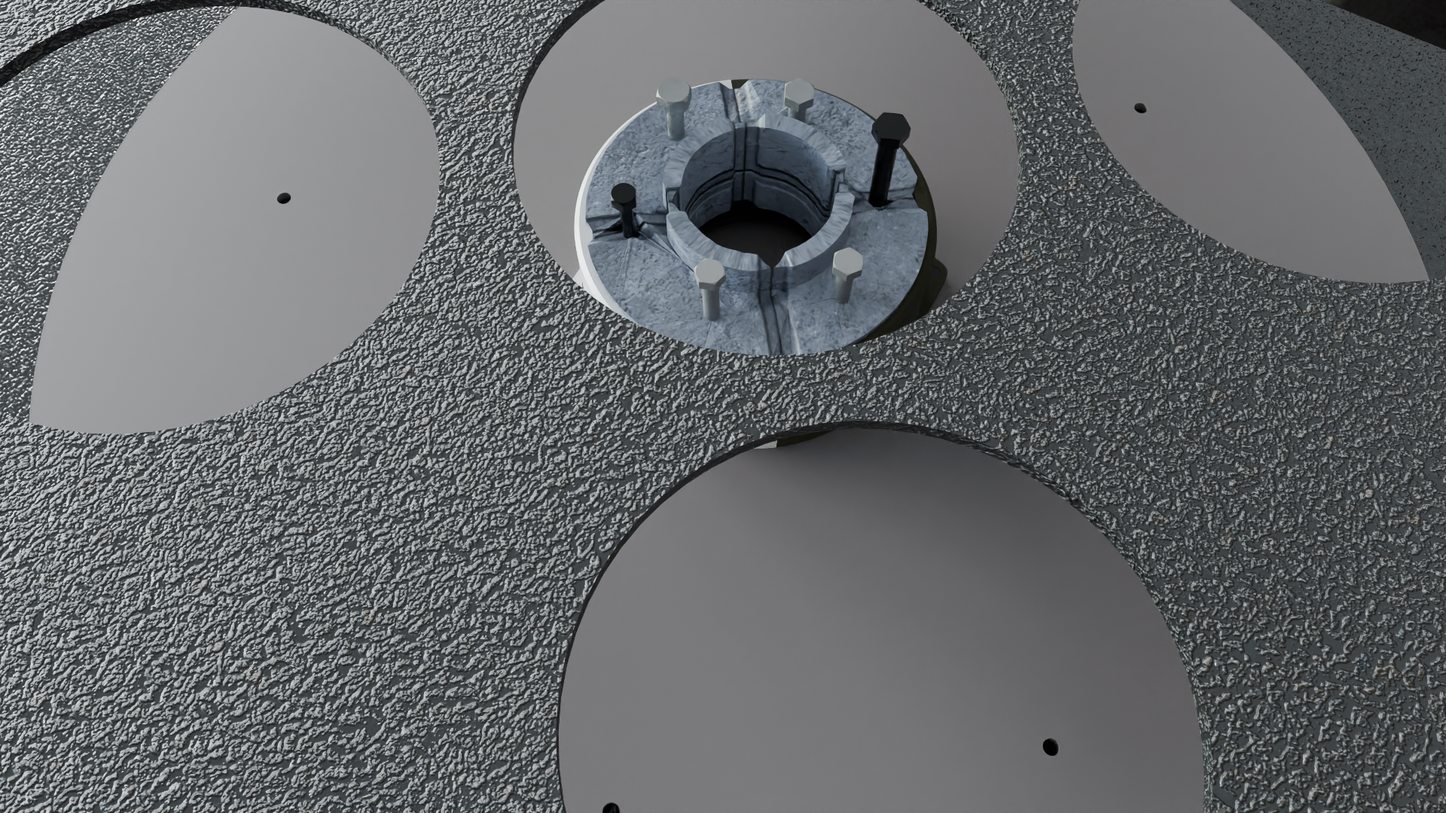bolt: (873, 112, 911, 140), (656, 78, 691, 106), (694, 259, 726, 285), (834, 248, 863, 276), (785, 78, 814, 105), (611, 183, 636, 206)
